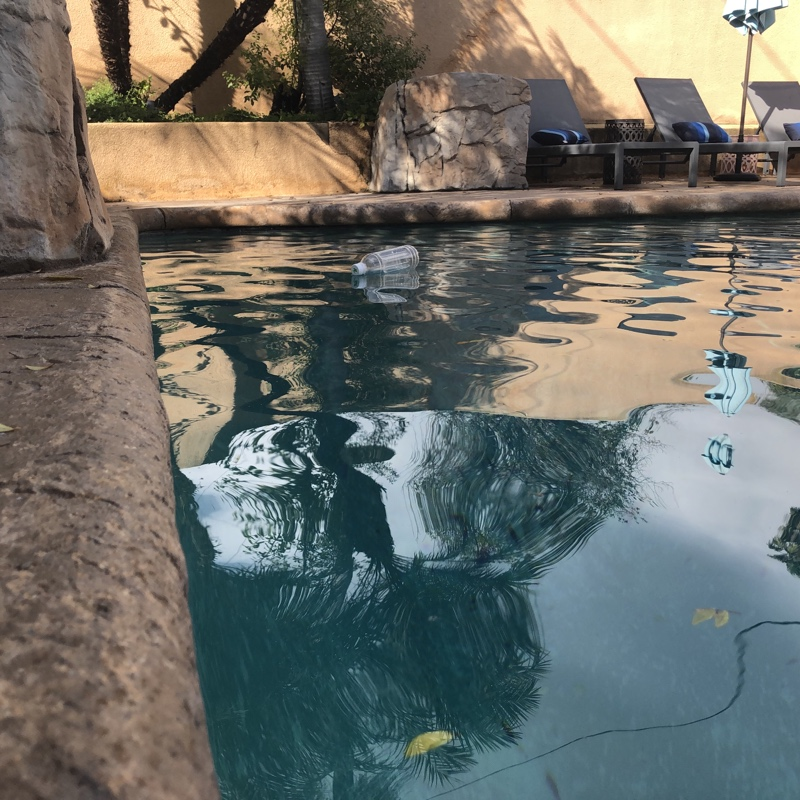Plastic Bottle: (349, 242, 423, 278)
